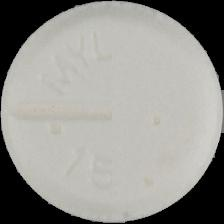55154-5561: (0, 0, 224, 224)
